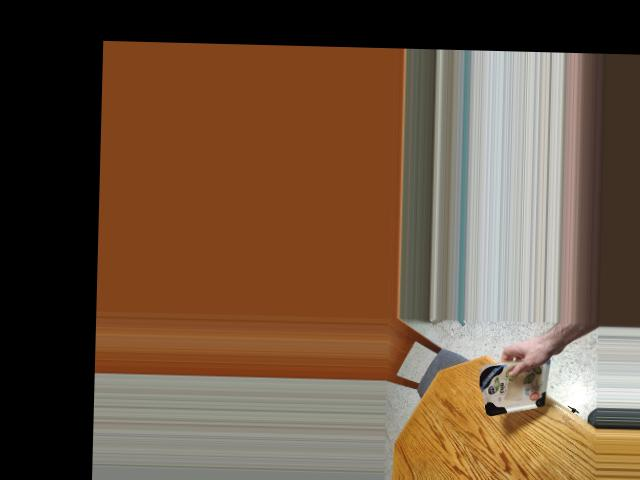cheese: (474, 359, 559, 411)
